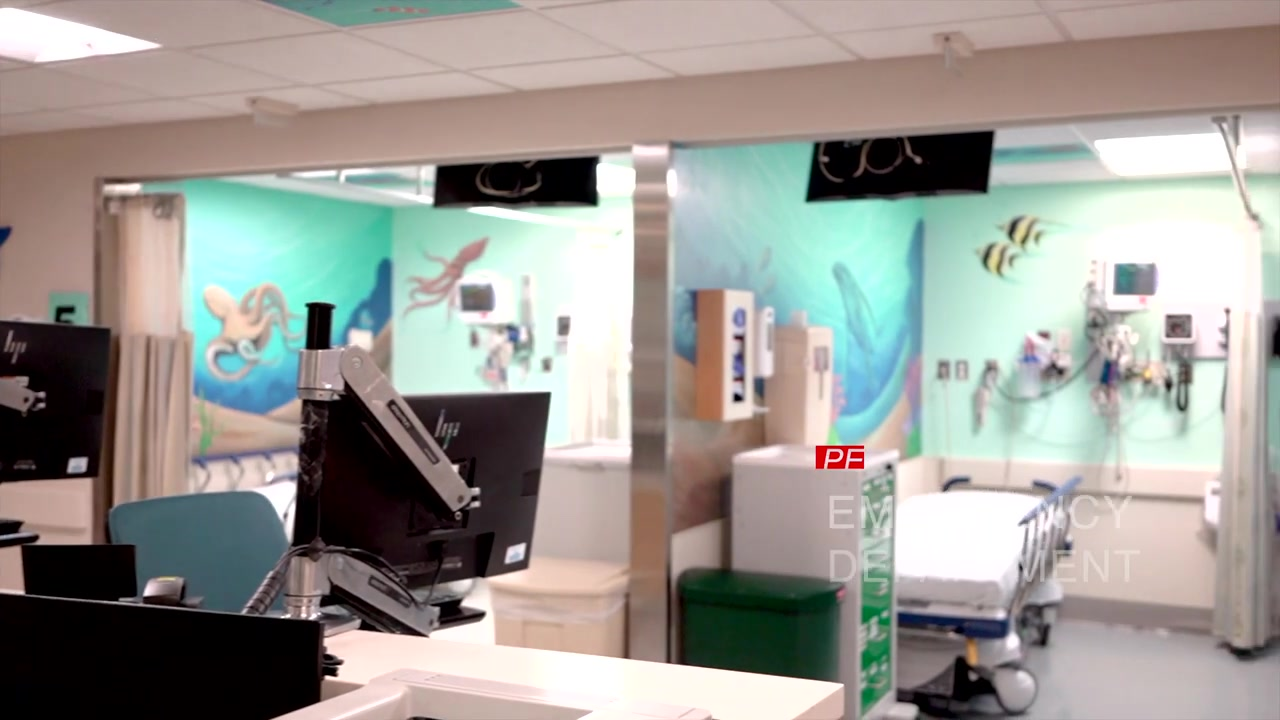TV: (802, 131, 991, 202), (437, 155, 604, 209)
bedrail: (1017, 475, 1084, 593), (192, 444, 298, 493), (264, 469, 298, 527)
bedside_monitor: (1106, 258, 1161, 311)
chair: (107, 491, 290, 613)
computer: (337, 391, 551, 591), (1, 590, 324, 720), (1, 320, 112, 483)
countertop: (325, 628, 848, 720)
curtain: (93, 193, 192, 507), (1211, 216, 1280, 650)
dispenser: (699, 294, 756, 424), (753, 305, 778, 379)
hospital_bed: (898, 474, 1085, 638), (192, 443, 299, 542)
medical_drawer: (725, 442, 901, 720)
medical_waste_container: (766, 329, 834, 443)
waste_bin: (674, 566, 847, 686), (490, 563, 633, 659)
